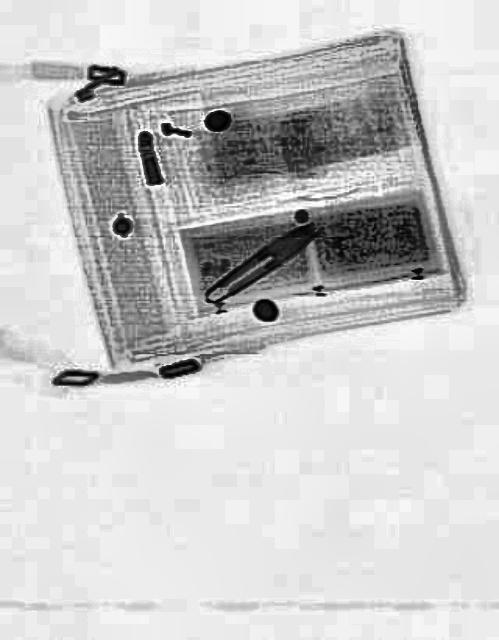Scissors: (197, 212, 323, 310)
